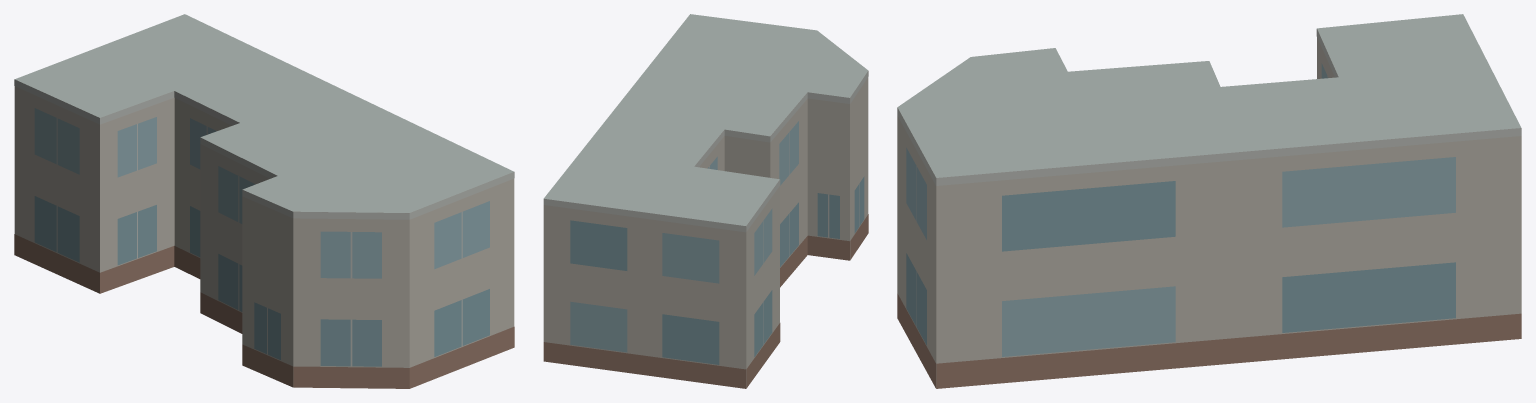
File: survey-upis-32900767.glb
The picture shows the model from 3 angles, left to right: view 1: azimuth 30°, elevation 25°; view 2: azimuth 150°, elevation 25°; view 3: azimuth 270°, elevation 25°; orthographic projection. The views are drawn at different scales.
Parts seen in each view (by area): view 1: survey-upis-32900767.tmp; view 2: survey-upis-32900767.tmp; view 3: survey-upis-32900767.tmp.
Part boxes in pixels (box(x1,y1,x2,y2)): survey-upis-32900767.tmp: box(14, 14, 514, 388); survey-upis-32900767.tmp: box(543, 14, 868, 388); survey-upis-32900767.tmp: box(897, 14, 1521, 388).
Size of the model in its own units: 10.69 by 6.4 by 17.18.
